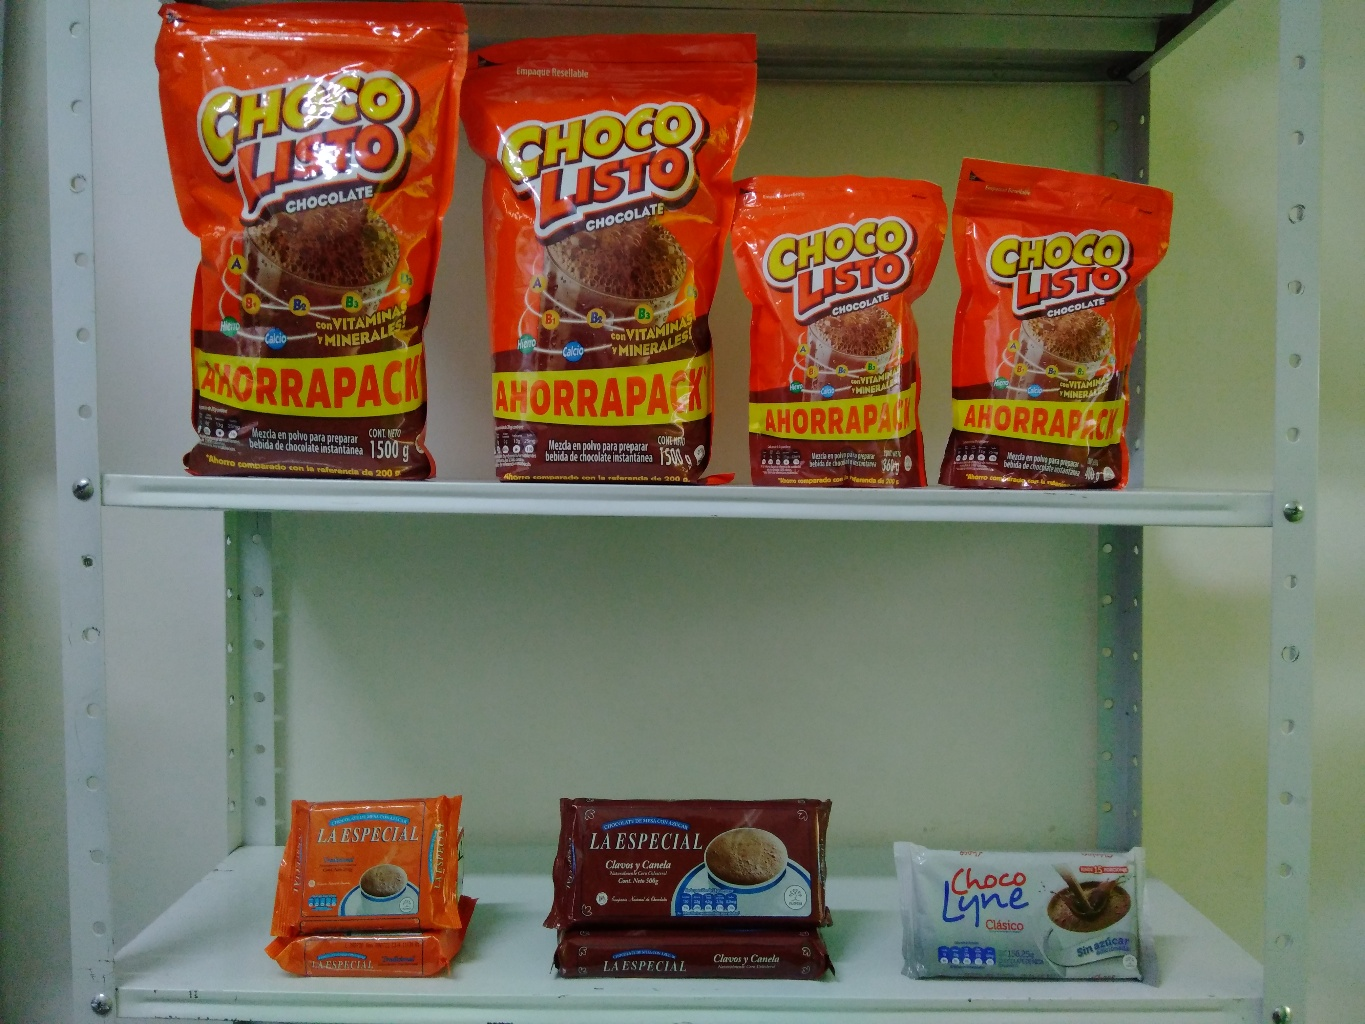COL0170103DYP1,500: (453, 16, 767, 501)
COL0170103DYP36000: (721, 156, 942, 487)
COL0170103DYP40000: (944, 142, 1181, 498)
